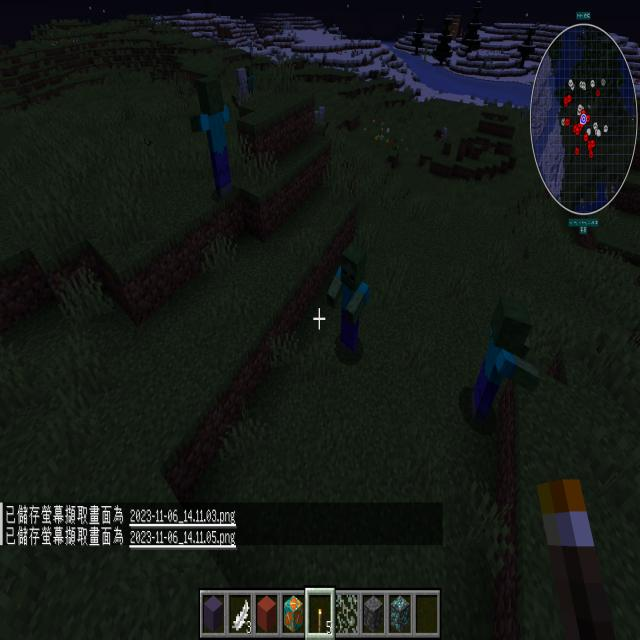Skeleton: (232, 66, 250, 110), (319, 102, 329, 134), (442, 124, 451, 144), (314, 110, 320, 122)
Spider: (432, 125, 444, 146)
Zombie: (461, 274, 542, 448), (182, 69, 238, 221), (322, 236, 378, 362), (246, 62, 256, 102)
